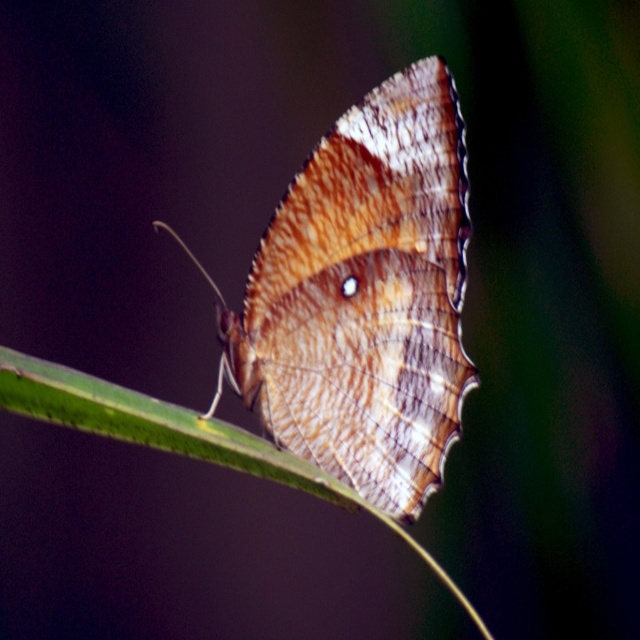Butterfly: (189, 32, 499, 606)
